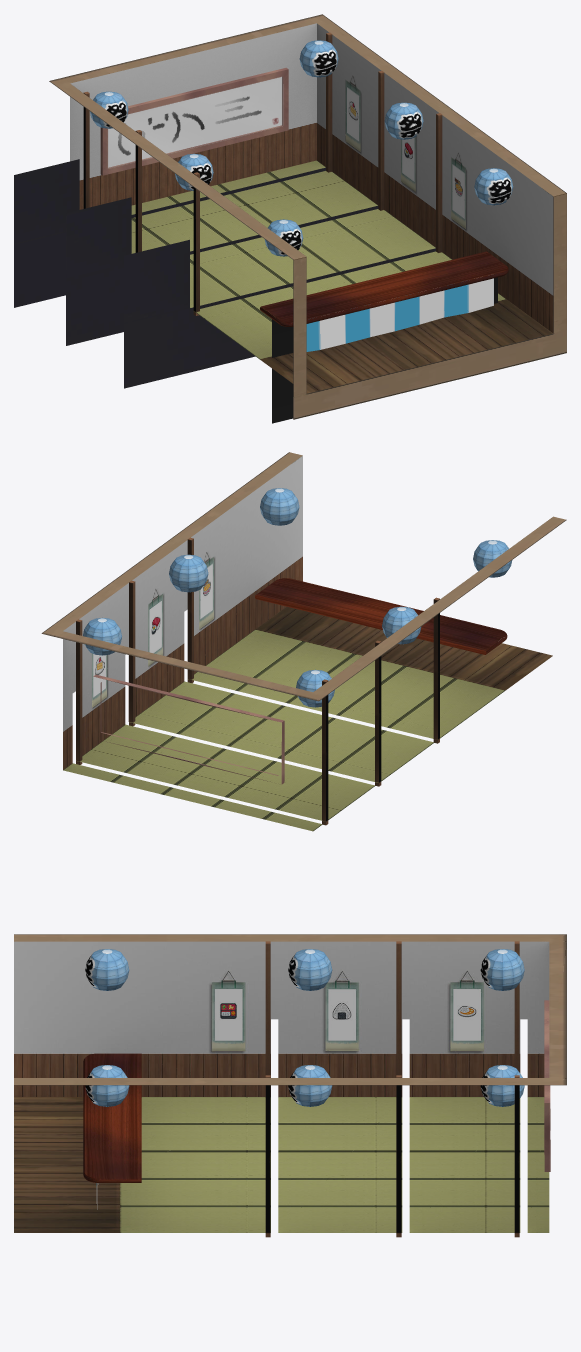
Rendered from fight_room.glb.
3 views of the same model, one above another, from view 1: azimuth 30°, elevation 25°; view 2: azimuth 150°, elevation 25°; view 3: azimuth 270°, elevation 25° (orthographic). The views are drawn at different scales.
Visible parts, largest first — view 1: Cube, fram, c, tablecurtain, Cylinder.004, Cylinder.005, Cylinder.003, Cube.008, Cube.009, Cube.004, Cylinder, Cylinder.002 (+4 smaller); view 2: Cube, c, fram, Cylinder.005, Cylinder.004, Cylinder.003, Cube.007, Cube.008, Cube.005, Cube.006, Cube.004, Cylinder (+3 smaller); view 3: Cube, c, Cylinder, Cylinder.001, Cylinder.002, Cylinder.004, Cylinder.005, Cylinder.003, fram, Cube.008, Cube.007, Cube.009 (+3 smaller).
Boxes of the visible parts, x1,y1,x2,y2 form: Cube: [14, 14, 566, 419]; fram: [100, 67, 288, 175]; c: [260, 251, 508, 423]; tablecurtain: [306, 278, 493, 351]; Cylinder.004: [384, 102, 423, 139]; Cylinder.005: [474, 168, 513, 205]; Cylinder.003: [299, 40, 338, 77]; Cube.008: [378, 71, 384, 210]; Cube.009: [436, 113, 442, 252]; Cube.004: [193, 172, 199, 315]; Cylinder: [264, 219, 303, 256]; Cylinder.002: [90, 91, 128, 128]; Cube: [41, 452, 566, 831]; c: [255, 578, 507, 654]; fram: [93, 674, 284, 784]; Cylinder.005: [260, 488, 299, 525]; Cylinder.004: [169, 554, 208, 592]; Cylinder.003: [83, 617, 121, 655]; Cube.007: [76, 619, 82, 764]; Cube.008: [129, 580, 135, 726]; Cube.005: [375, 640, 381, 786]; Cube.006: [322, 679, 328, 825]; Cube.004: [433, 597, 439, 743]; Cylinder: [473, 540, 512, 577]; Cube: [14, 934, 566, 1232]; c: [83, 1053, 141, 1182]; Cylinder: [85, 949, 129, 990]; Cylinder.001: [288, 949, 332, 990]; Cylinder.002: [480, 949, 524, 990]; Cylinder.004: [288, 1065, 332, 1106]; Cylinder.005: [85, 1065, 129, 1106]; Cylinder.003: [480, 1065, 524, 1106]; fram: [544, 1000, 550, 1171]; Cube.008: [396, 1075, 401, 1237]; Cube.007: [514, 1075, 519, 1237]; Cube.009: [265, 1075, 270, 1237].
Size of the model in its own units: 3.69 by 1.94 by 4.22.
8 materials, 8 textured.
